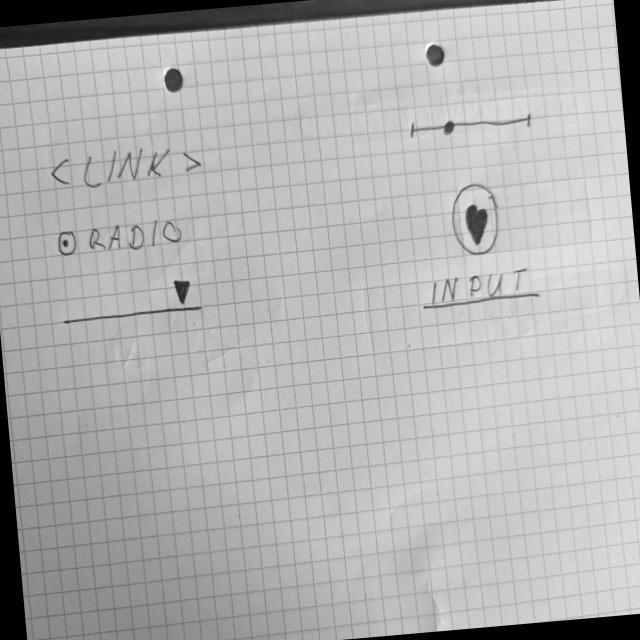icon-button: (447, 181, 506, 262)
input: (418, 265, 542, 315)
link: (49, 140, 206, 195)
radio: (55, 215, 186, 261)
select: (58, 276, 205, 328)
slider: (407, 110, 535, 143)
